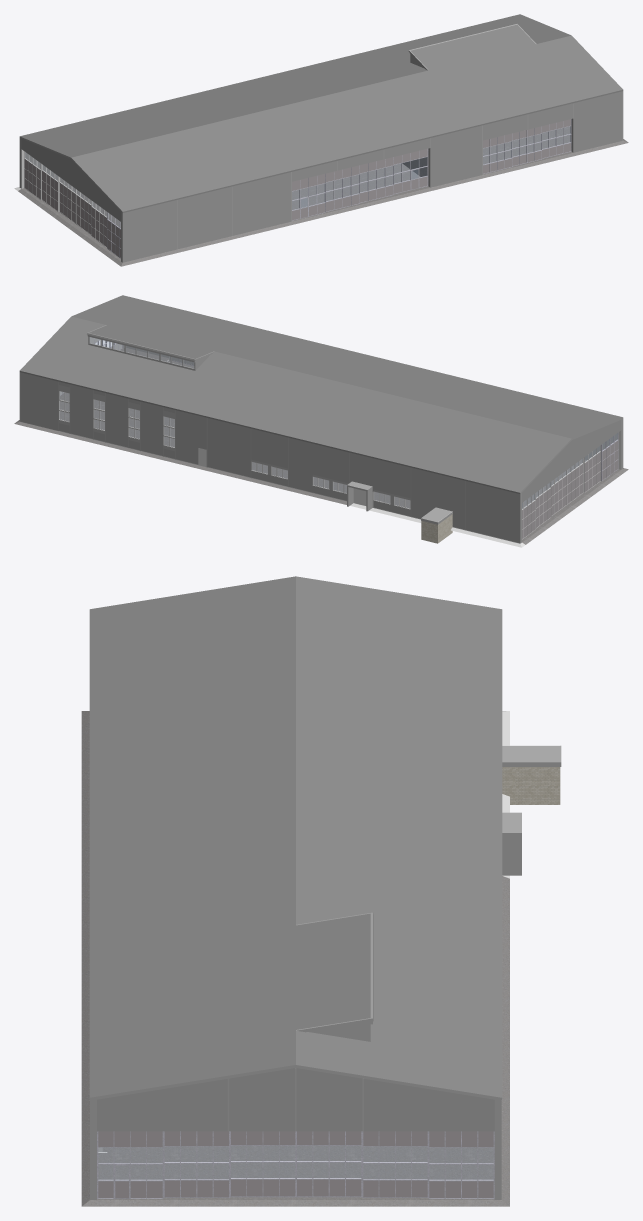
Rendered from lszf-werkstatt.gltf.
The picture shows the model from 3 angles, top to bottom: view 1: azimuth 30°, elevation 25°; view 2: azimuth 150°, elevation 25°; view 3: azimuth 270°, elevation 25°; orthographic projection. The views are drawn at different scales.
Parts seen in each view (by area): view 1: Plane, Tor_mit_Türe.005, Tor_mit_Türe.002, Tor_mit_Türe.003, Tor_mit_Türe.004, Plane.011, Plane.012, Plane.013, Plane.008, Plane.009, Plane.007, Plane.006 (+2 smaller); view 2: Plane, Tor_mit_Türe.001, Plane.010, Plane.007, Plane.008, Plane.006, Plane.009; view 3: Plane, Plane.005, Tor_mit_Türe, Plane.001, Plane.004, Plane.003, Plane.002.
Part boxes in pixels (x1,y1,x2,y2): Plane: (14, 14, 628, 266); Tor_mit_Türe.005: (393, 148, 428, 194); Tor_mit_Türe.002: (292, 173, 325, 220); Tor_mit_Türe.003: (324, 165, 359, 211); Tor_mit_Türe.004: (360, 157, 393, 203); Plane.011: (483, 133, 512, 174); Plane.012: (511, 126, 541, 166); Plane.013: (541, 119, 571, 158); Plane.008: (41, 164, 59, 211); Plane.009: (24, 151, 41, 199); Plane.007: (75, 189, 93, 234); Plane.006: (59, 177, 75, 223); Plane: (14, 295, 628, 547); Tor_mit_Türe.001: (601, 432, 618, 481); Plane.010: (583, 445, 600, 492); Plane.007: (567, 458, 583, 504); Plane.008: (534, 482, 551, 528); Plane.006: (549, 470, 566, 516); Plane.009: (522, 493, 535, 539); Plane: (81, 576, 561, 1206); Plane.005: (428, 1131, 494, 1198); Tor_mit_Türe: (97, 1131, 163, 1198); Plane.001: (163, 1131, 229, 1197); Plane.004: (362, 1131, 428, 1197); Plane.003: (296, 1131, 362, 1197); Plane.002: (230, 1131, 295, 1197).
Bounding box in the file's own units: 69.65 × 10.4 × 28.48.
